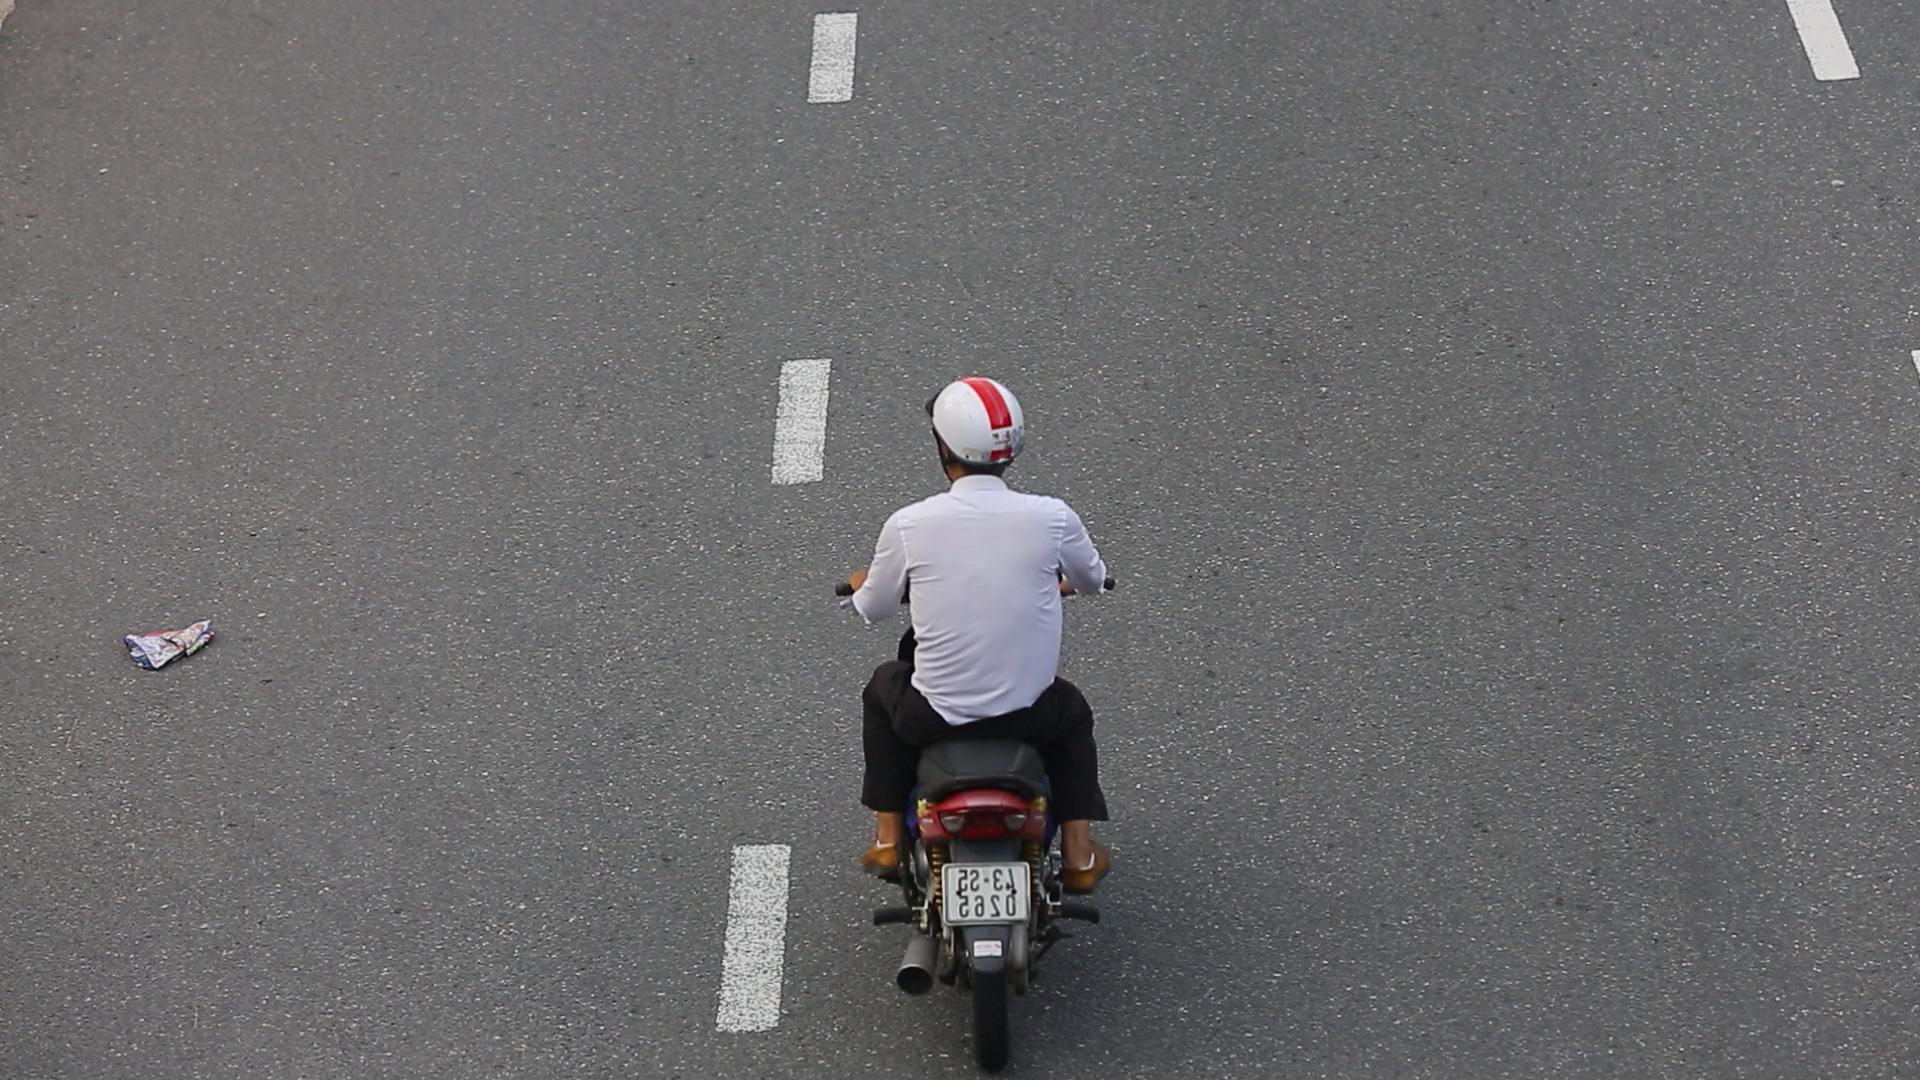motobike: (835, 372, 1131, 1080)
